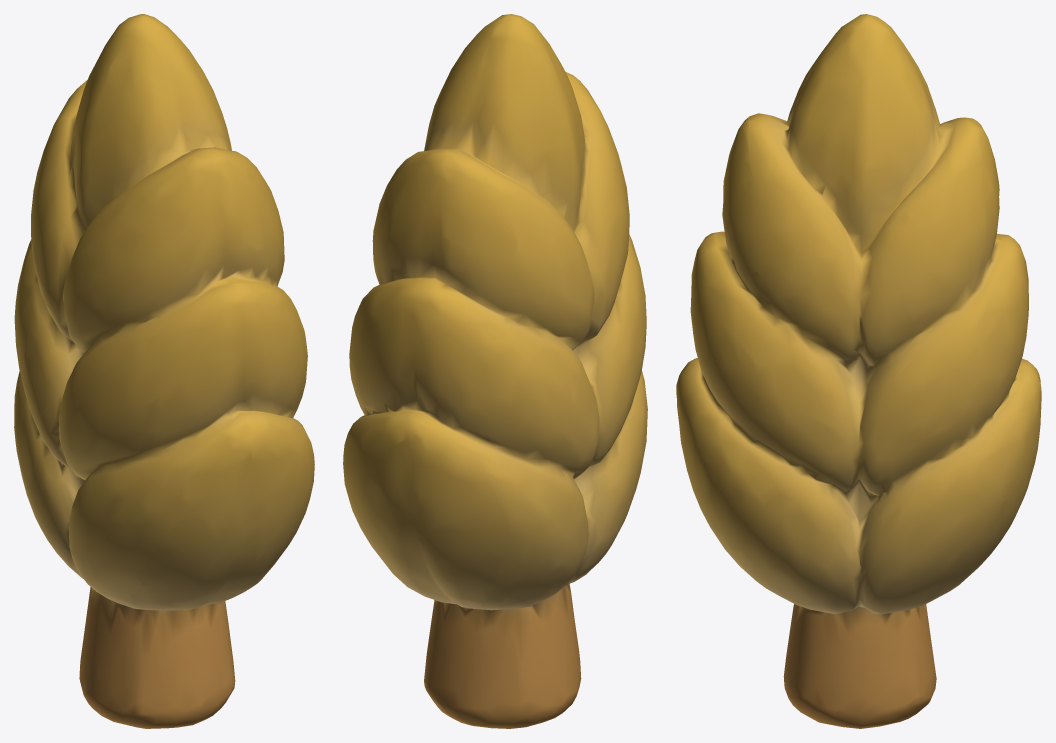
The model's file is wheat-token-v010-color-a-v001.glb.
The picture shows the model from 3 angles, left to right: view 1: azimuth 30°, elevation 25°; view 2: azimuth 150°, elevation 25°; view 3: azimuth 270°, elevation 25°; orthographic projection.
Parts seen in each view (by area): view 1: tripo_node_b8524558-6ff0-4062-a584-0a27fcd39138; view 2: tripo_node_b8524558-6ff0-4062-a584-0a27fcd39138; view 3: tripo_node_b8524558-6ff0-4062-a584-0a27fcd39138.
Boxes of the visible parts, x1,y1,x2,y2 form: tripo_node_b8524558-6ff0-4062-a584-0a27fcd39138: [14, 14, 314, 728]; tripo_node_b8524558-6ff0-4062-a584-0a27fcd39138: [343, 14, 647, 728]; tripo_node_b8524558-6ff0-4062-a584-0a27fcd39138: [676, 14, 1041, 728].
Size of the model in its own units: 0.3354 by 1 by 0.486.
1 material, 1 textured.
